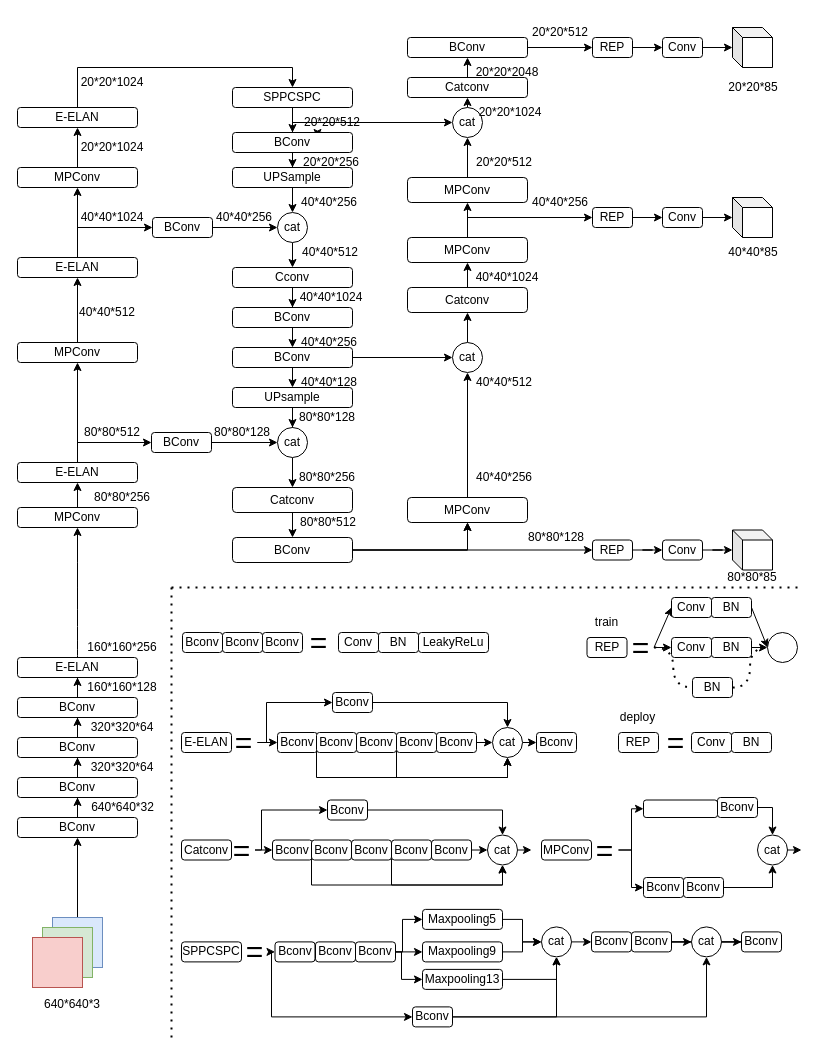
The diagram is 827 pixels wide and 1056 high, and some of its shapes have lost their labels. The shapes that lost their labels are listed below. From the top down, each one's box as (x1, y1, x2, y2) in pixels, then its label:
(766, 632, 798, 662): add
(642, 799, 718, 818): Maxpooling
